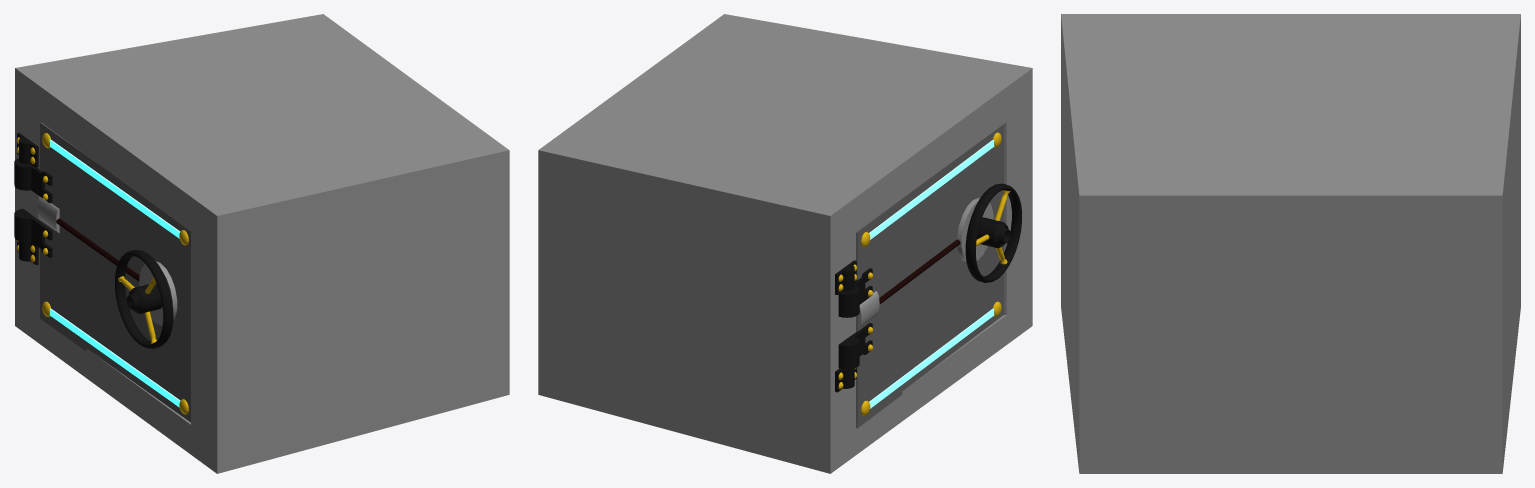
Rendered from petit_coffre_animed.fbx.
3 renders of one model, left to right at view 1: azimuth 30°, elevation 25°; view 2: azimuth 150°, elevation 25°; view 3: azimuth 270°, elevation 25°, orthographic. The views are drawn at different scales.
Visible parts, largest first — view 1: Box029, Cylinder034, Cylinder029; view 2: Box029, Cylinder034, Cylinder029; view 3: Box029.
Part boxes in pixels (bbox=[...]): Box029: bbox=[15, 14, 509, 473]; Cylinder034: bbox=[14, 122, 190, 422]; Cylinder029: bbox=[115, 249, 173, 348]; Box029: bbox=[538, 14, 1032, 473]; Cylinder034: bbox=[838, 124, 1003, 428]; Cylinder029: bbox=[965, 183, 1021, 282]; Box029: bbox=[1061, 14, 1520, 473].
Bounding box in the file's own units: 41.44 × 30.86 × 43.85.
